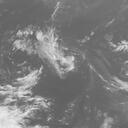cyclone: (27, 30, 71, 72)
